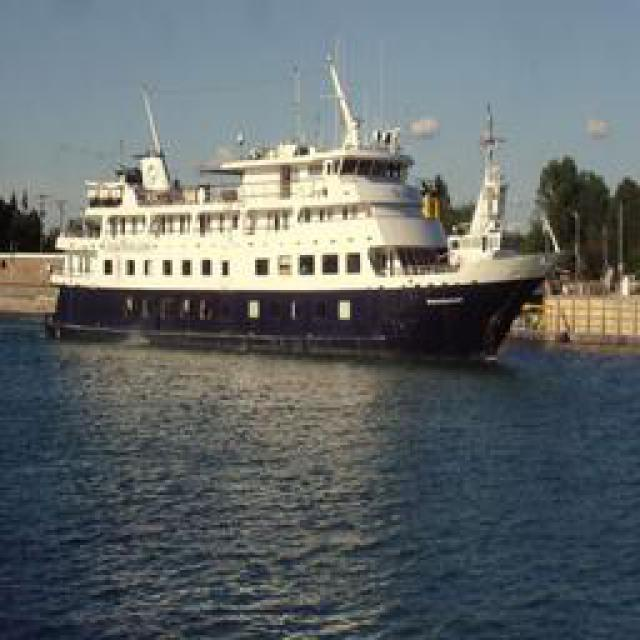Ship: (42, 46, 560, 359)
